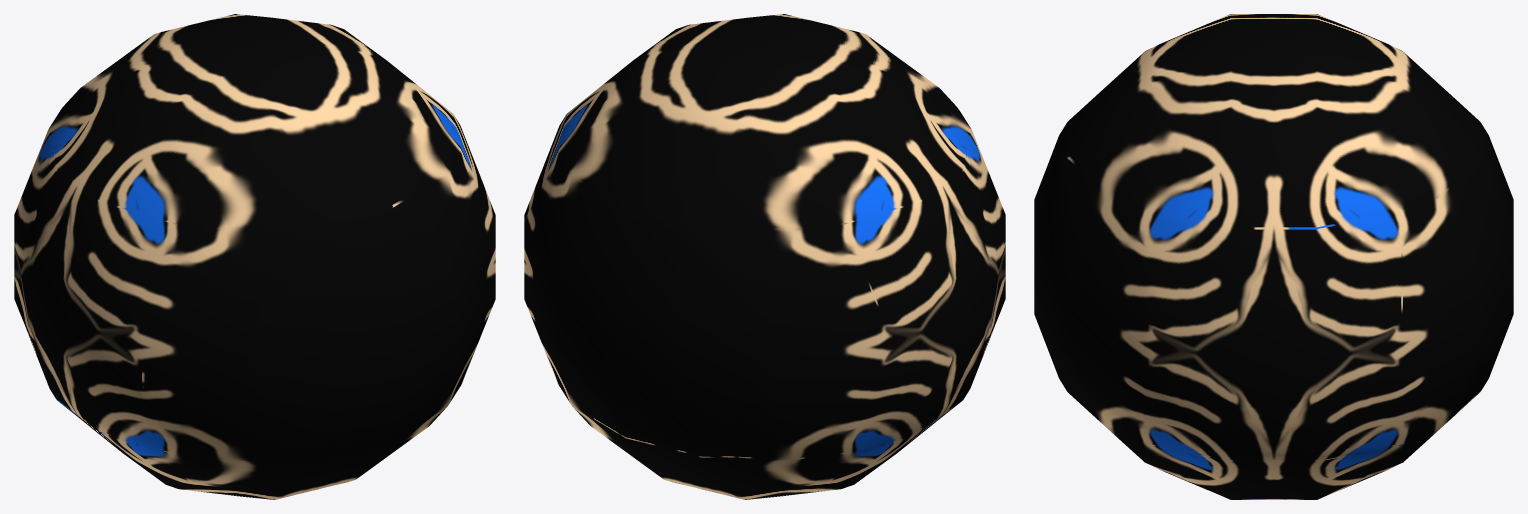
File: ballBlender.glb
3 views of the same model, side by side, from view 1: azimuth 30°, elevation 25°; view 2: azimuth 150°, elevation 25°; view 3: azimuth 270°, elevation 25° (orthographic).
Visible parts, largest first — view 1: Mball.001; view 2: Mball.001; view 3: Mball.001.
Part boxes in pixels (x1,y1,x2,y2): Mball.001: (14, 14, 495, 499); Mball.001: (524, 14, 1005, 499); Mball.001: (1034, 14, 1513, 499).
Bounding box in the file's own units: 2.23 × 2.23 × 2.23.
Materials: 1 (1 with a texture image).
